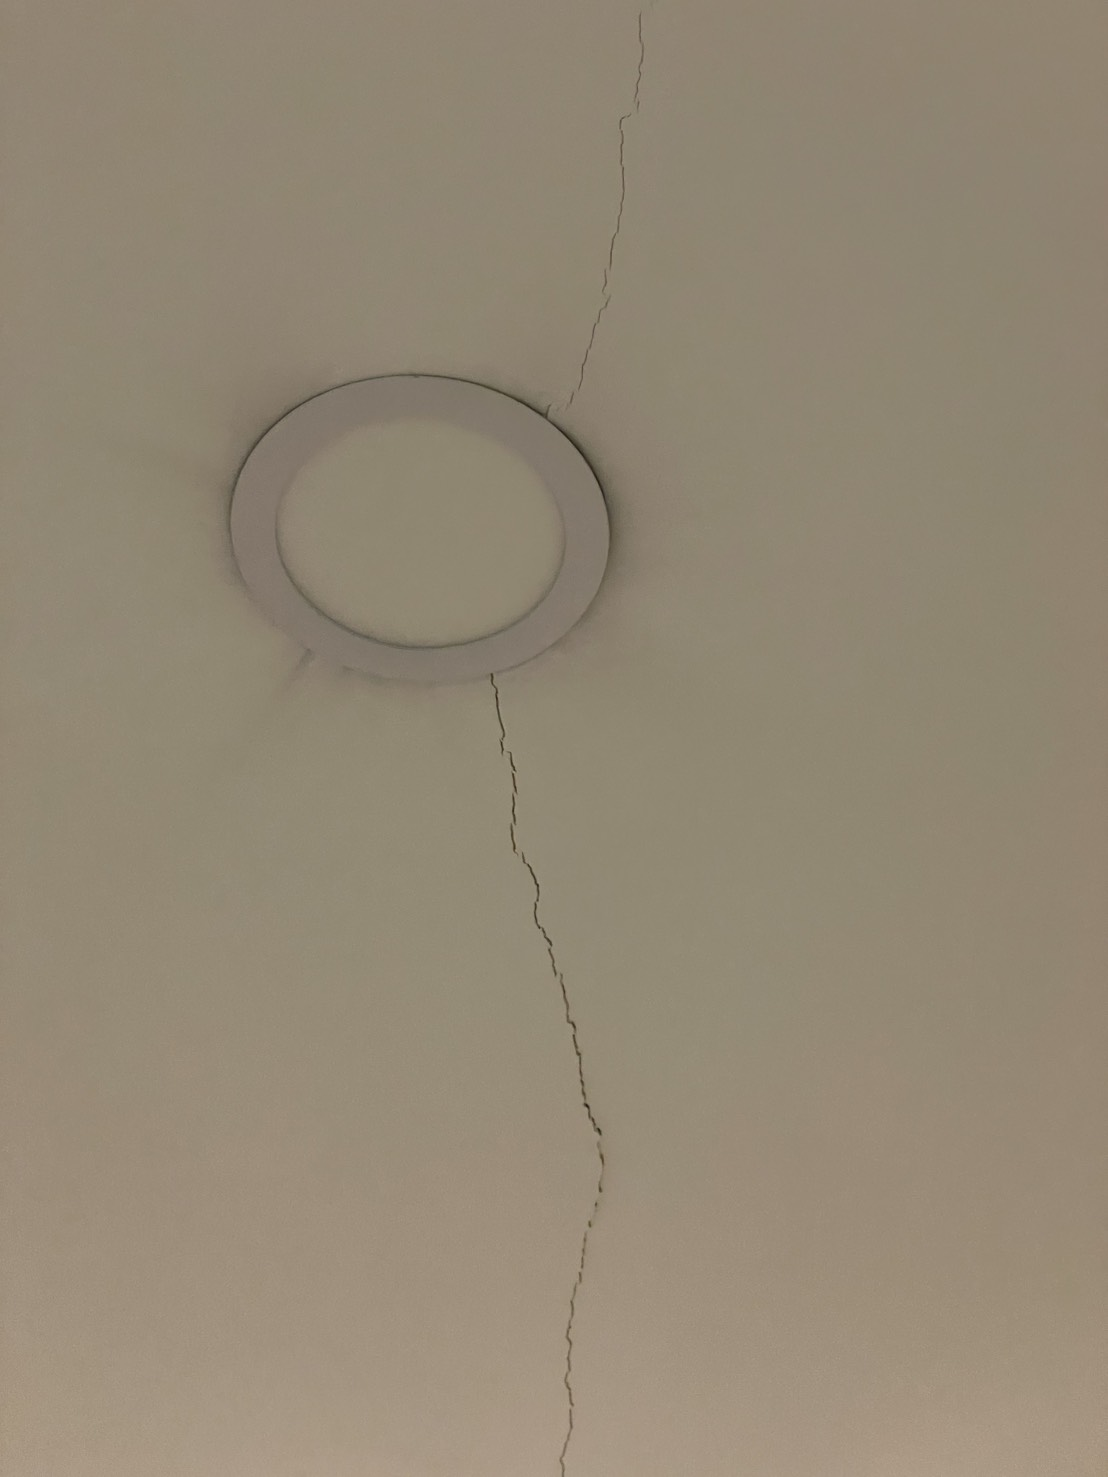Low: (353, 656, 639, 1469)
